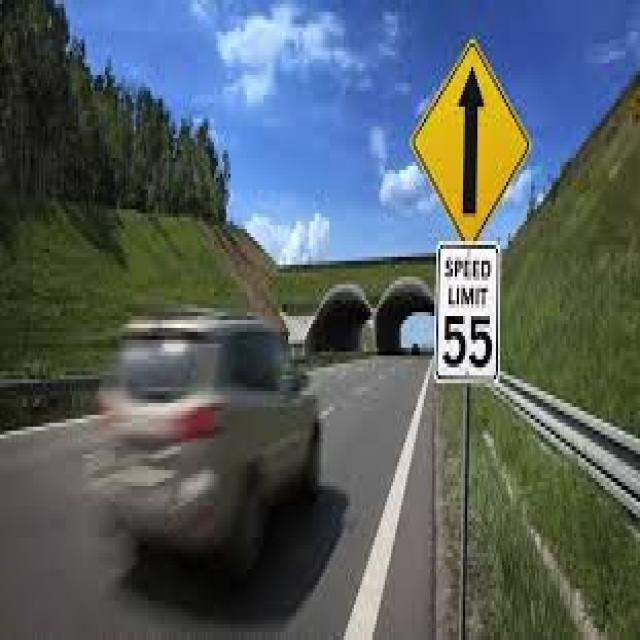speedLimit55: (435, 238, 501, 384)
